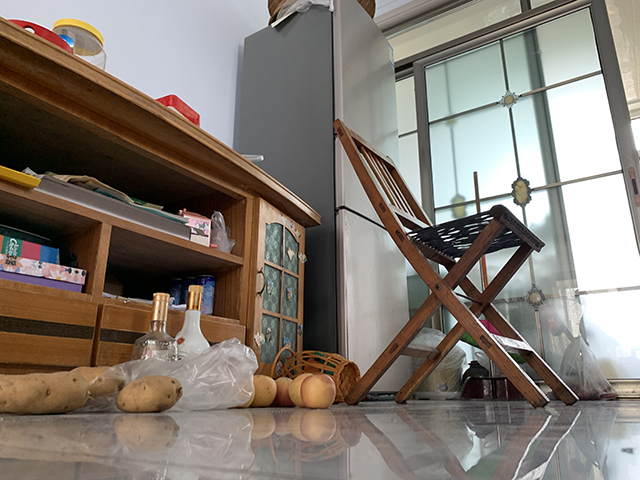cabinet: (1, 14, 322, 384)
stool: (333, 117, 580, 410)
